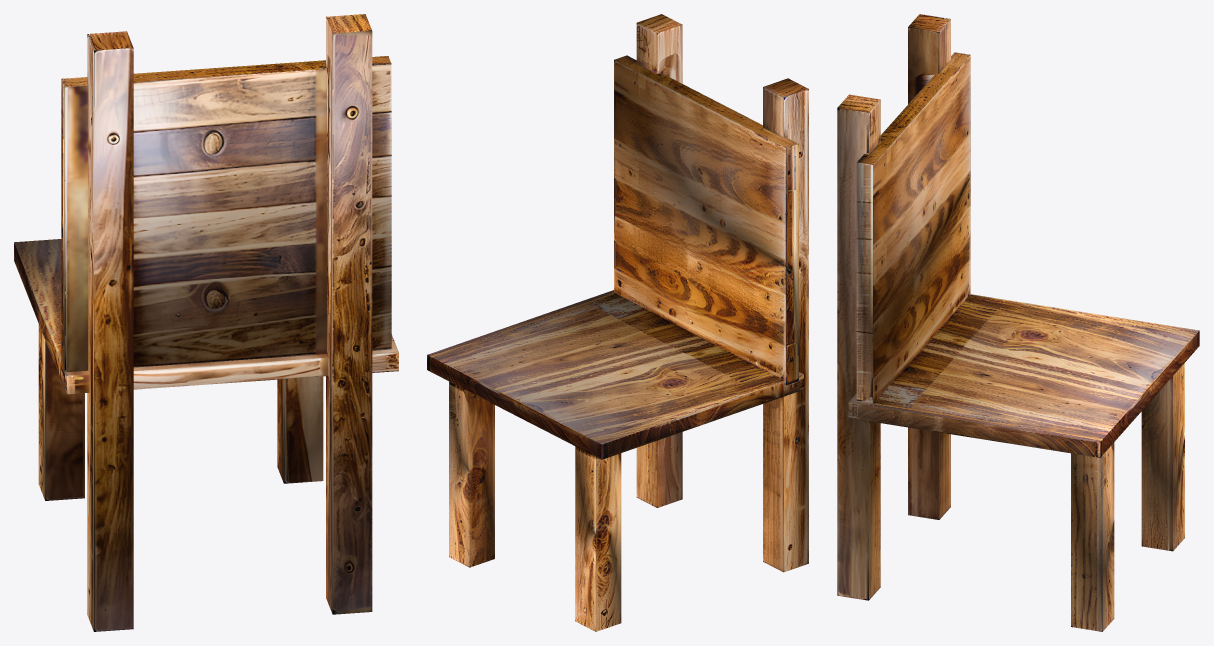
The model's file is chair1.glb.
3 renders of one model, left to right at view 1: azimuth 30°, elevation 25°; view 2: azimuth 150°, elevation 25°; view 3: azimuth 270°, elevation 25°, orthographic. The views are drawn at different scales.
Bounding box in the file's own units: 10.68 × 16 × 10.77.
1 material, 1 textured.
